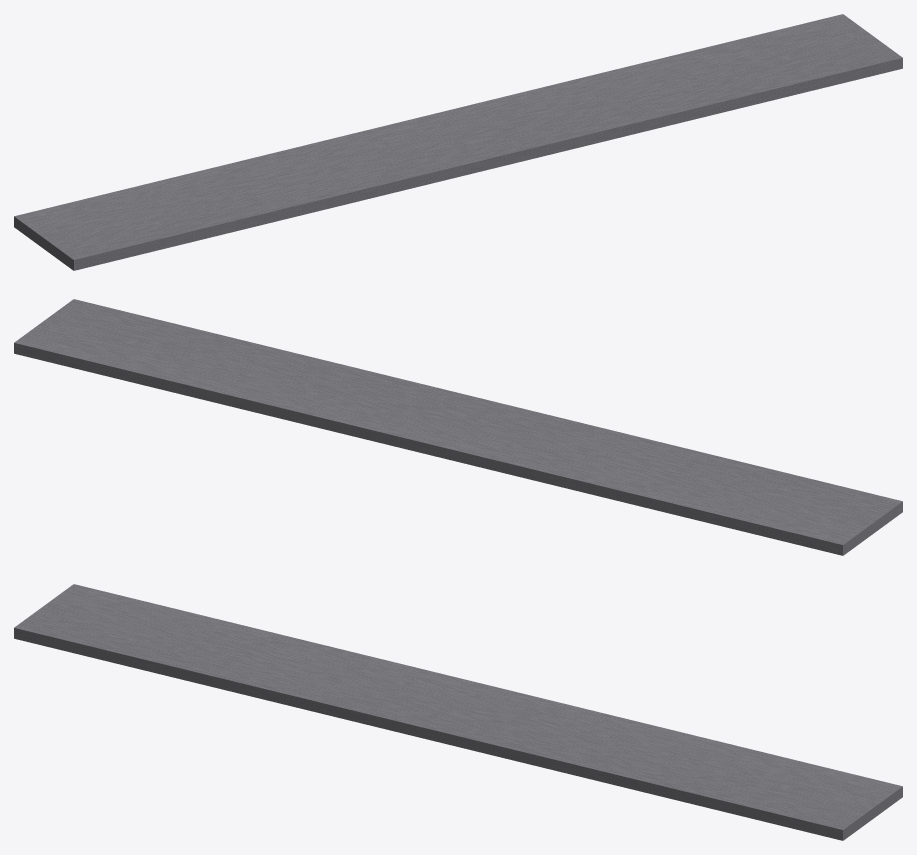
The picture shows the model from 3 angles, top to bottom: view 1: azimuth 30°, elevation 25°; view 2: azimuth 150°, elevation 25°; view 3: azimuth 330°, elevation 25°; orthographic projection.
Parts seen in each view (by area): view 1: win_strip_2u_lod0_run001; view 2: win_strip_2u_lod0_run001; view 3: win_strip_2u_lod0_run001.
Part boxes in pixels (box(x1,y1,x2,y2)): win_strip_2u_lod0_run001: box(14, 14, 902, 270); win_strip_2u_lod0_run001: box(14, 299, 902, 555); win_strip_2u_lod0_run001: box(14, 584, 902, 840).
Size of the model in its own units: 8 by 0.1 by 1.
Materials: 1 (1 with a texture image).
